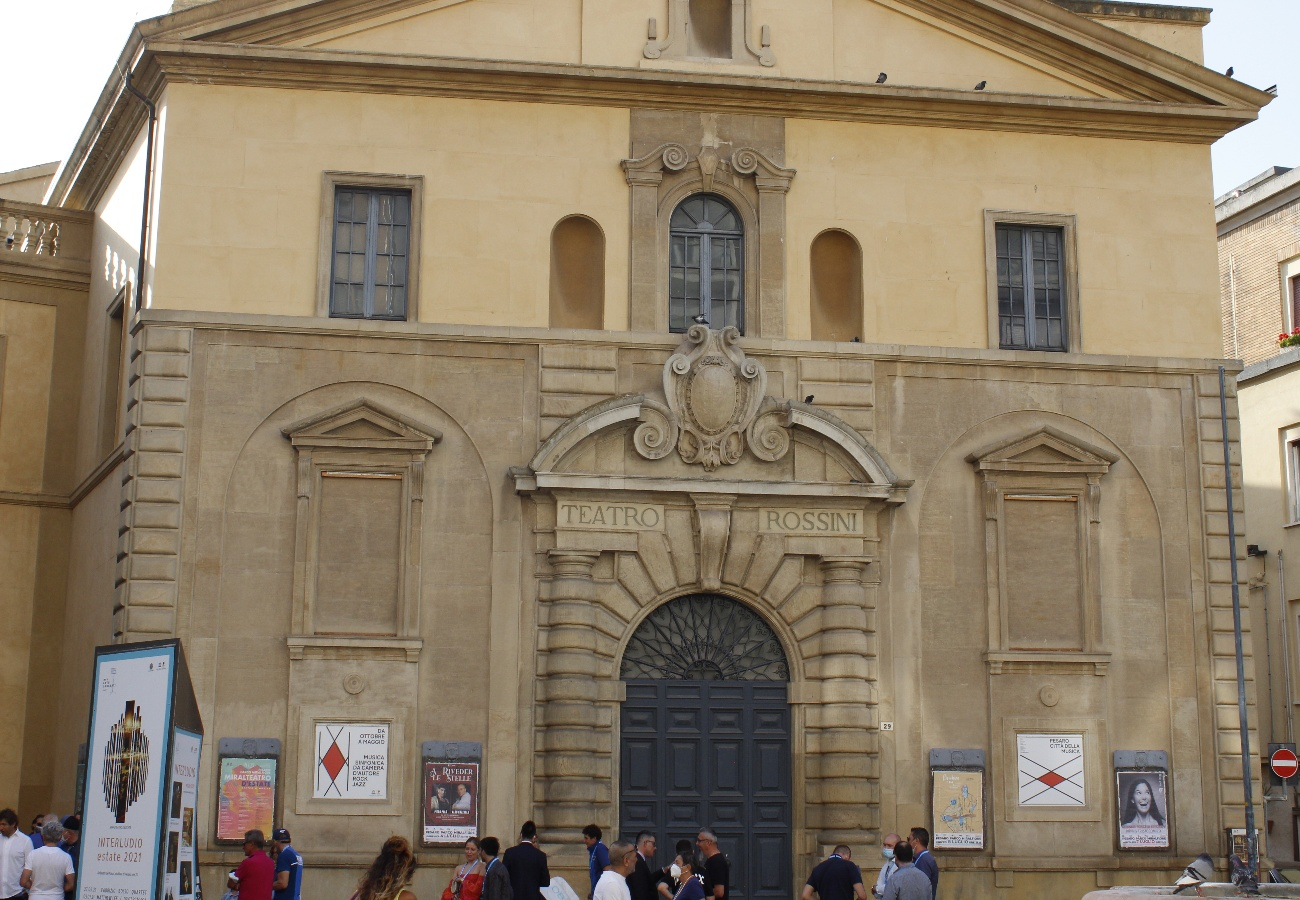Teatro Rossini: (134, 1, 1277, 892)
